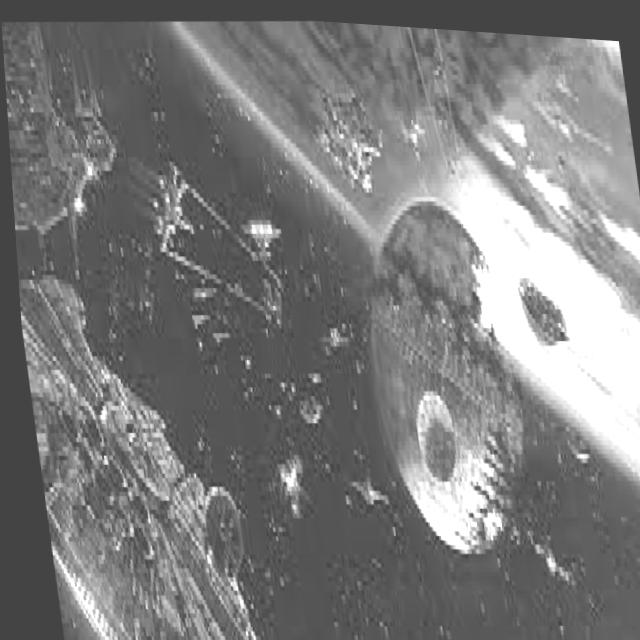death-stars: (365, 190, 520, 547)
